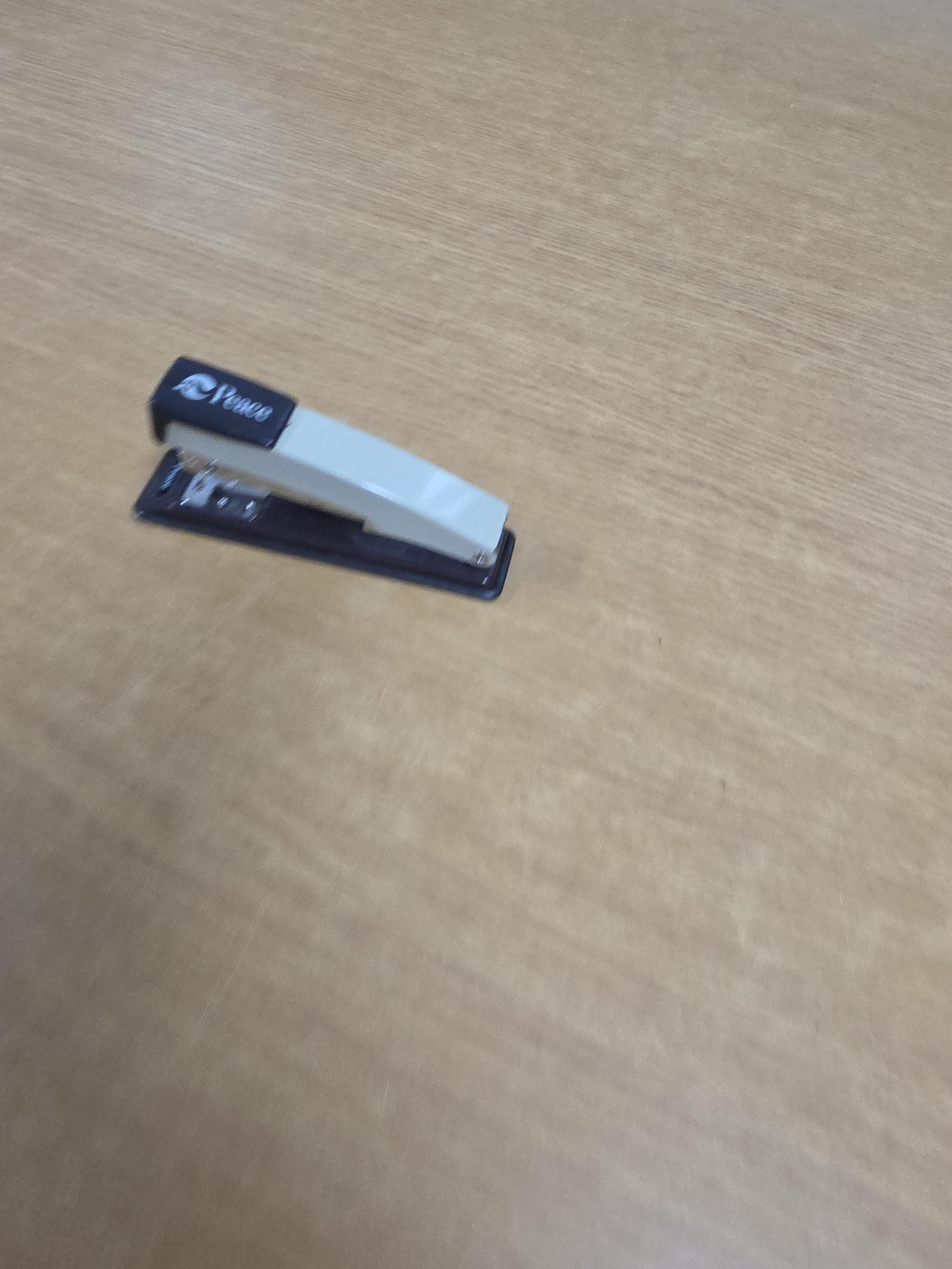stapler: (131, 354, 516, 603)
